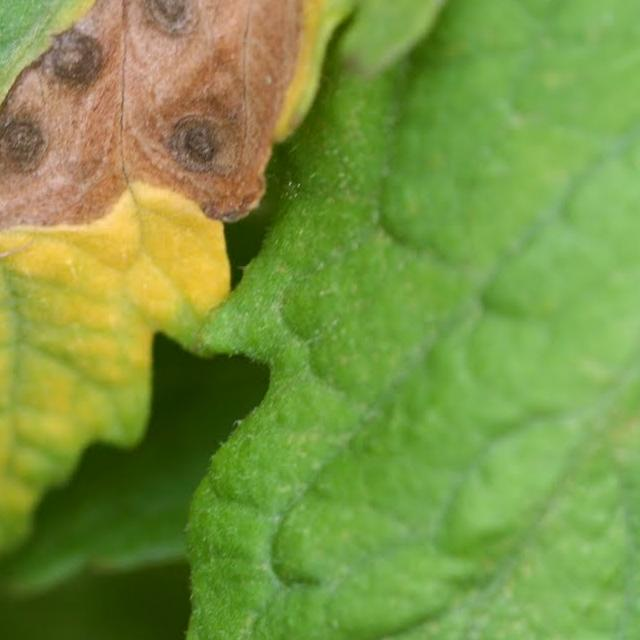Tomato leaf late blight: (0, 0, 508, 632)
